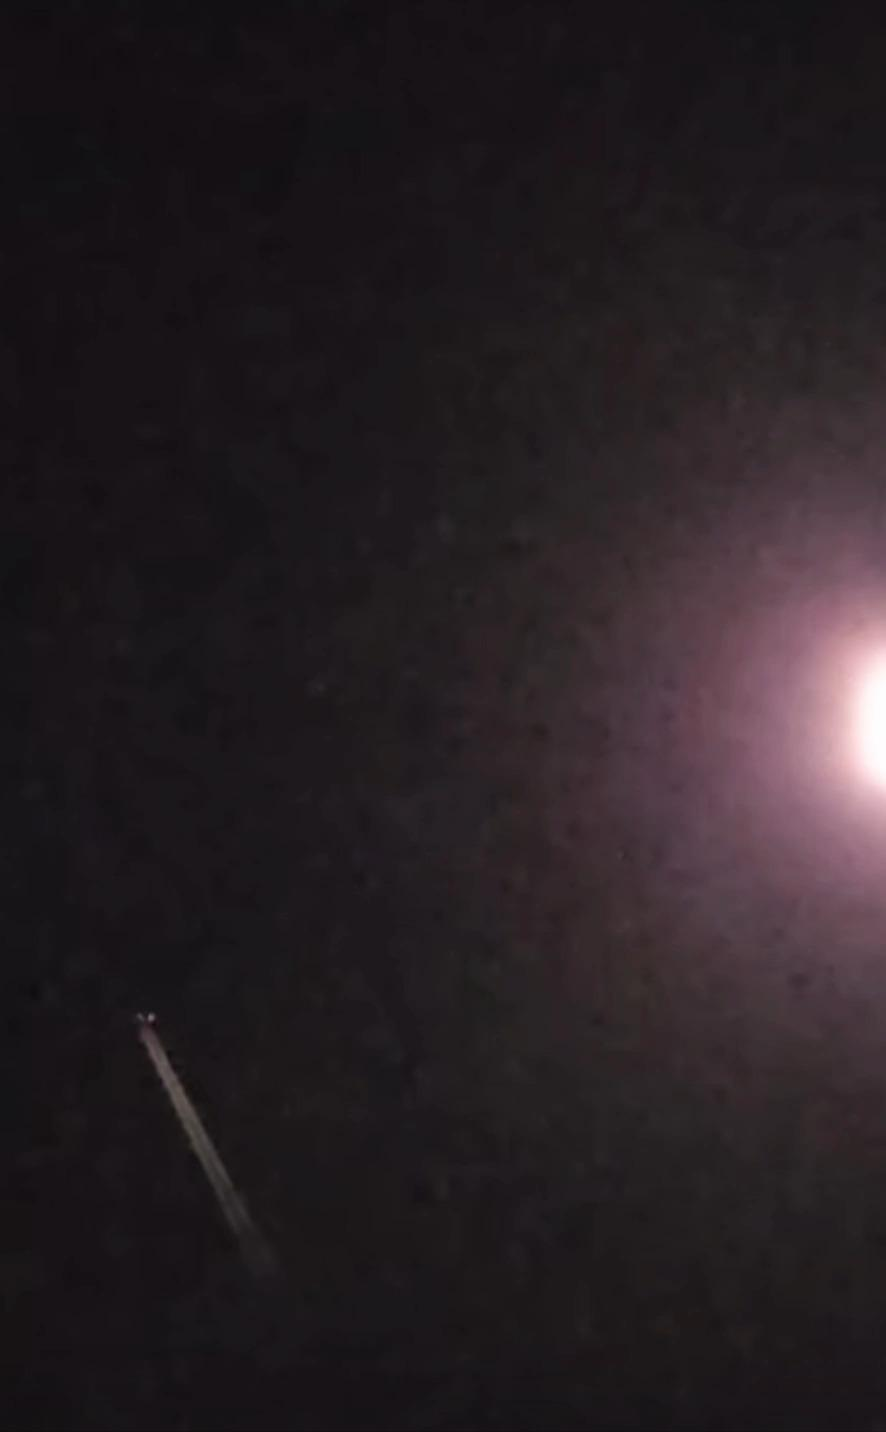Plane: (104, 992, 257, 1187)
